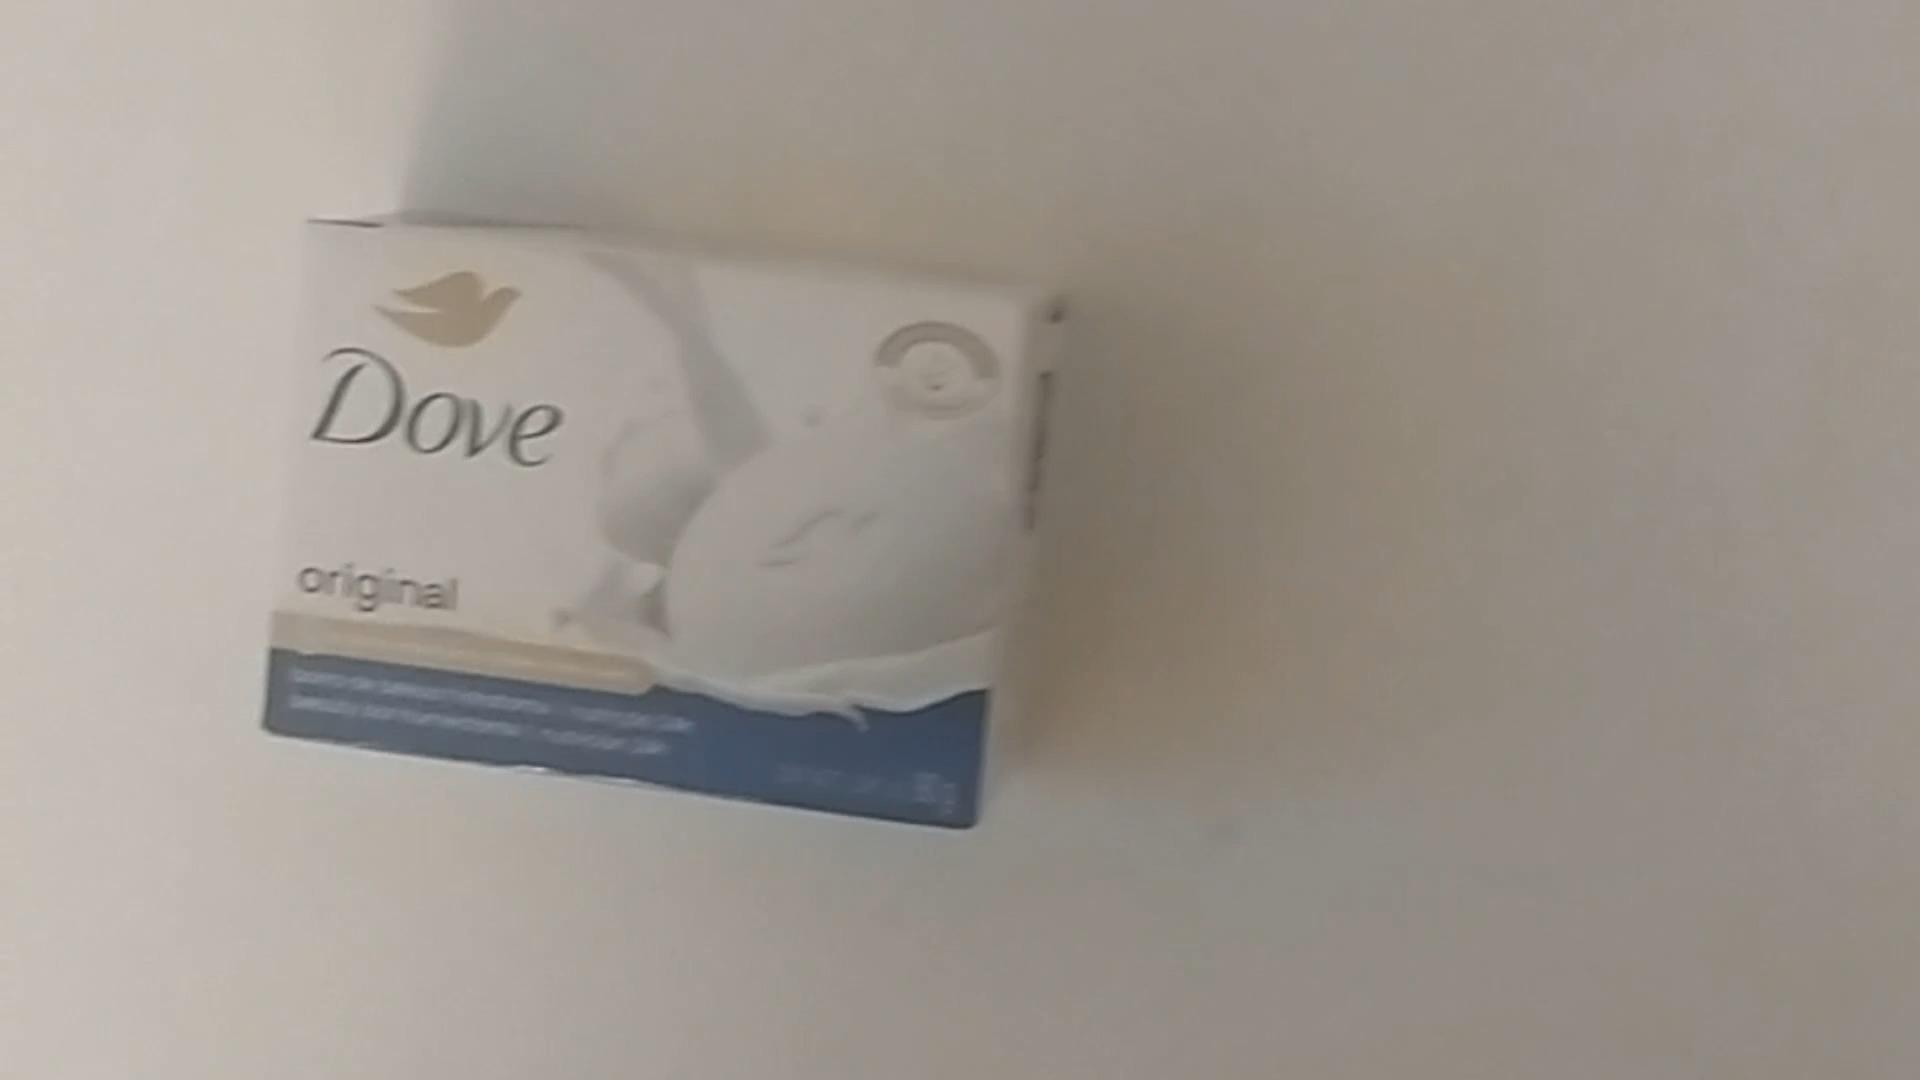soap: (255, 214, 1065, 836)
